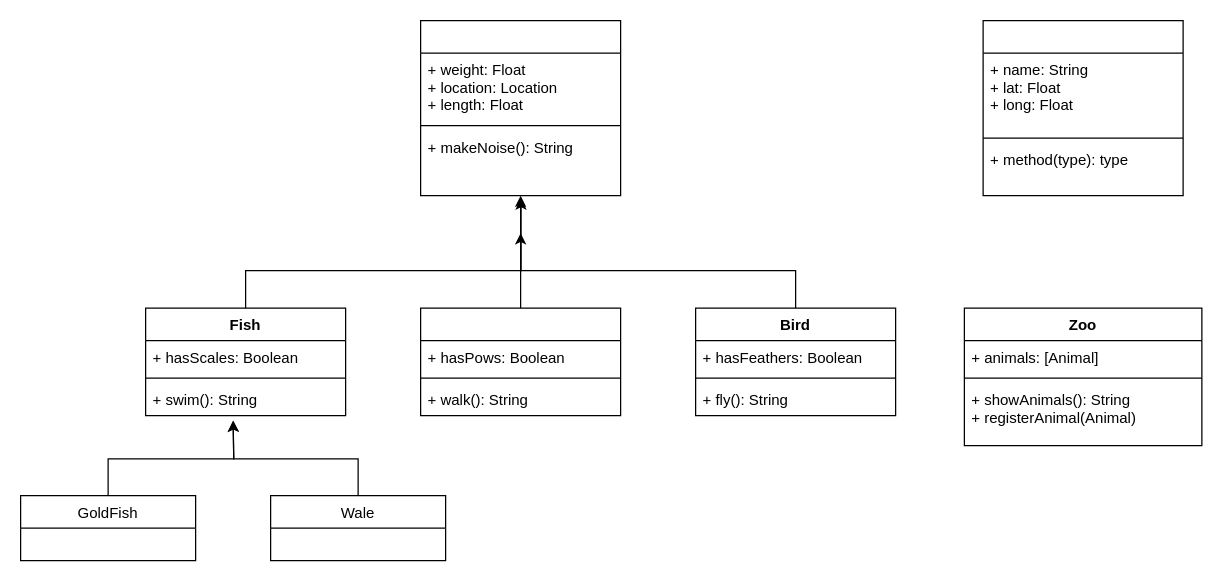
Image size: 1223x581. Some labels were removed from this diagram. The shapes that lost their labels are listed below. From the top down, each one's box as (x1, y1, x2, y2) in pixels, then its label:
(419, 19, 621, 196): Animal
(982, 19, 1183, 196): Location
(419, 307, 621, 416): Mammal
